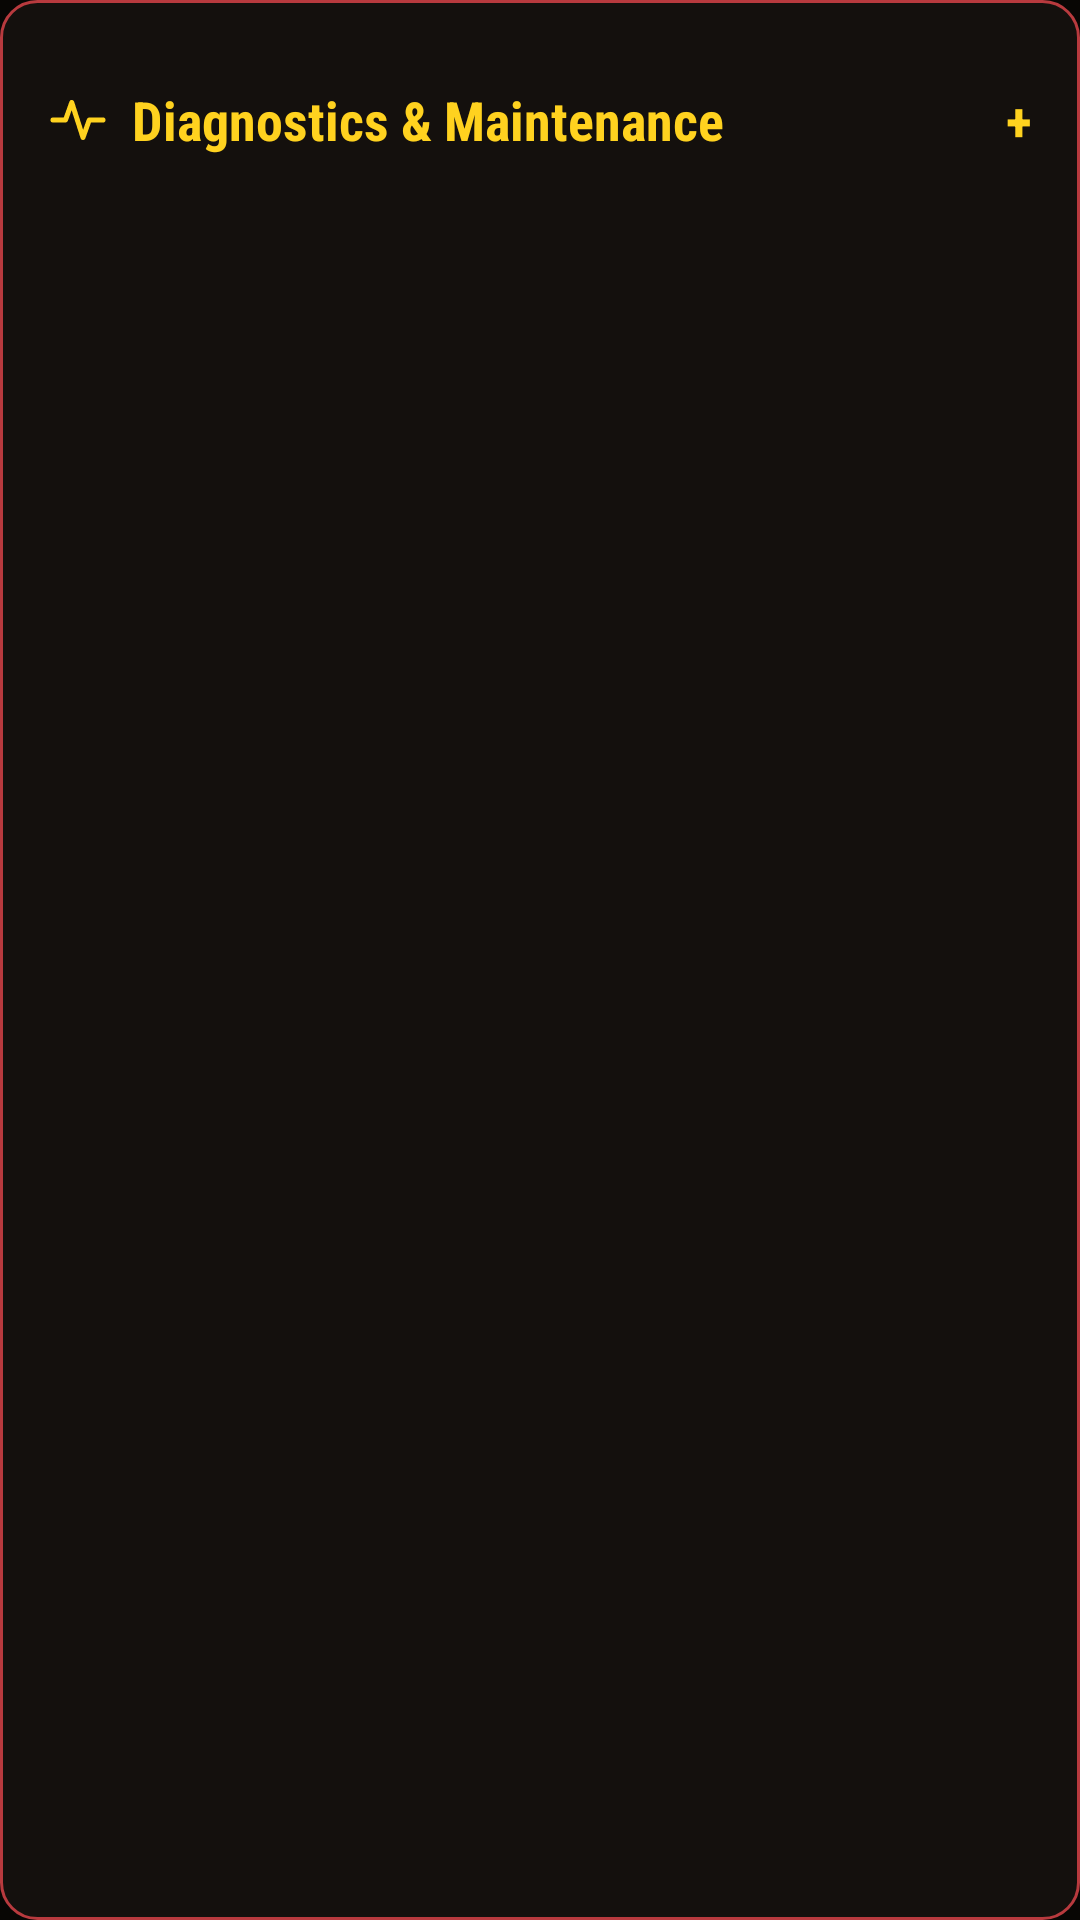

Icon bounding boxes for this 1080x1920 phone screenshot, format (x1, y1, x2, y2):
settings diagnostics: (50, 100, 106, 140)
